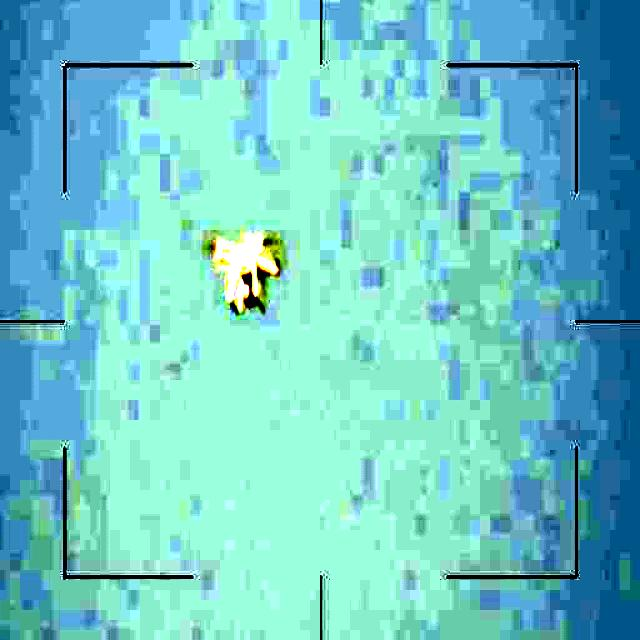bird: (204, 224, 286, 320)
